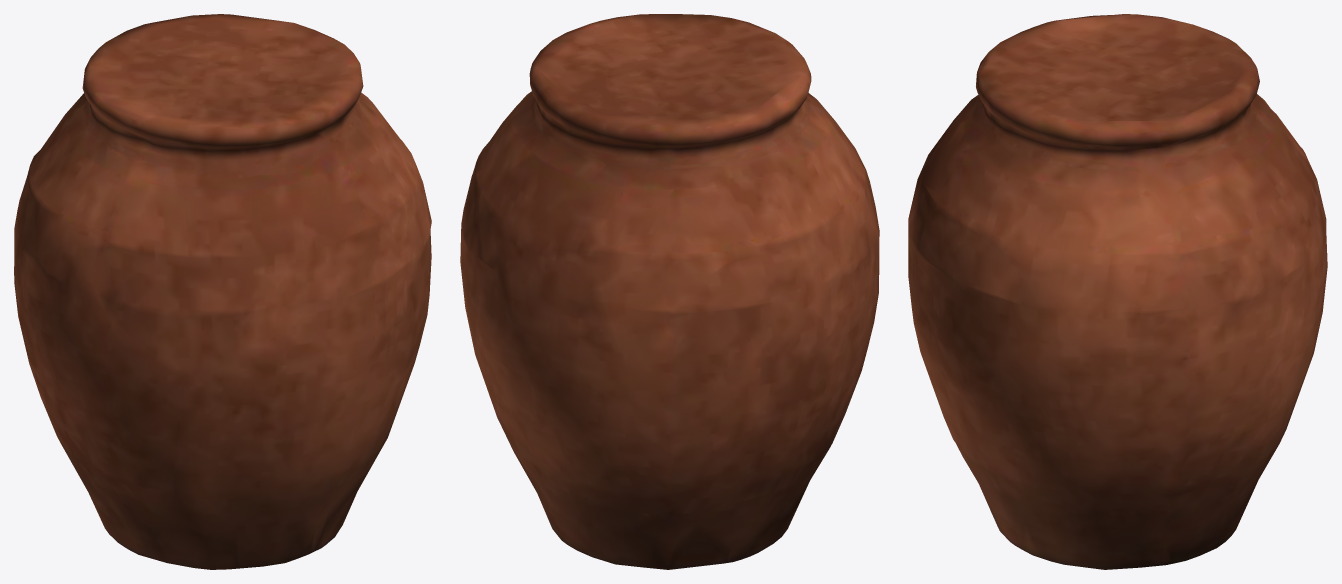
File: simple-terracotta-pot-v001.glb
The picture shows the model from 3 angles, left to right: view 1: azimuth 30°, elevation 25°; view 2: azimuth 150°, elevation 25°; view 3: azimuth 270°, elevation 25°; orthographic projection.
Visible parts, largest first — view 1: simple-terracotta-pot; view 2: simple-terracotta-pot; view 3: simple-terracotta-pot.
Boxes of the visible parts, <box> form: simple-terracotta-pot: <box>14,14,431,569</box>; simple-terracotta-pot: <box>460,14,879,569</box>; simple-terracotta-pot: <box>908,14,1327,569</box>.
Size of the model in its own units: 0.5307 by 0.6292 by 0.5304.
1 material, 1 textured.
